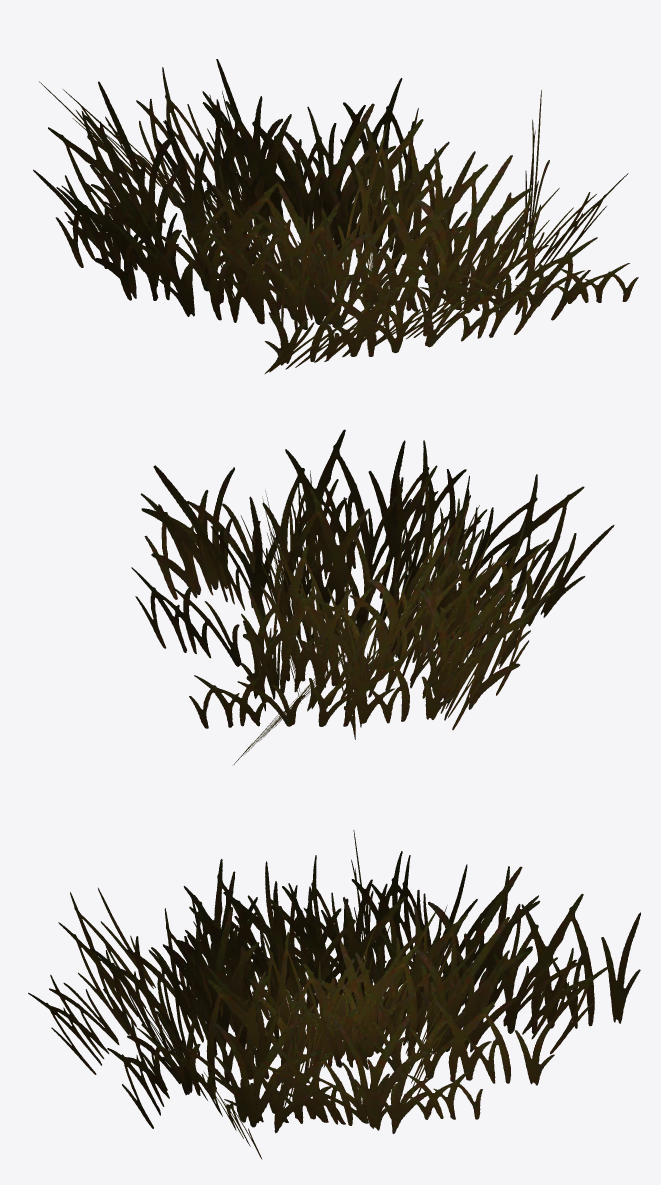
The picture shows the model from 3 angles, top to bottom: view 1: azimuth 30°, elevation 25°; view 2: azimuth 150°, elevation 25°; view 3: azimuth 270°, elevation 25°; orthographic projection. The views are drawn at different scales.
Visible parts, largest first — view 1: SM_DR_GrassShort_02_LOD0; view 2: SM_DR_GrassShort_02_LOD0; view 3: SM_DR_GrassShort_02_LOD0.
Boxes of the visible parts, x1,y1,x2,y2 form: SM_DR_GrassShort_02_LOD0: (33, 59, 638, 374); SM_DR_GrassShort_02_LOD0: (131, 429, 614, 764); SM_DR_GrassShort_02_LOD0: (28, 830, 640, 1159).
Size of the model in its own units: 0.8139 by 0.309 by 0.9537.
1 material, 1 textured.
